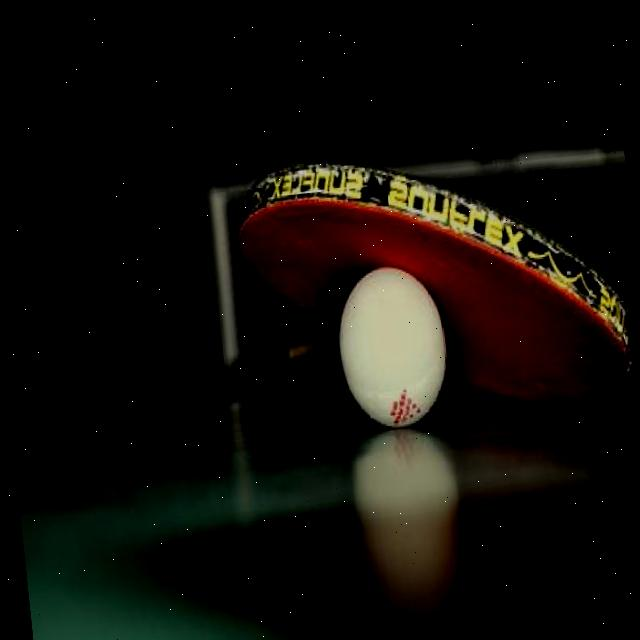ping-pong-ball: (326, 260, 454, 434)
